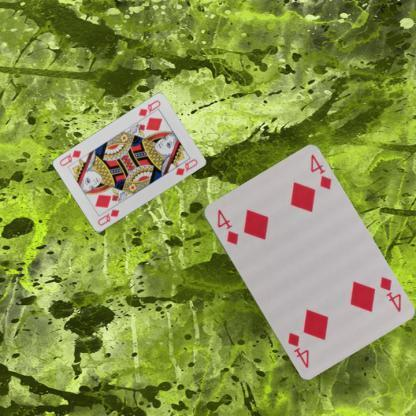4d: (214, 206, 240, 246), (377, 273, 402, 313)
Qd: (136, 98, 162, 122), (95, 207, 120, 227)
